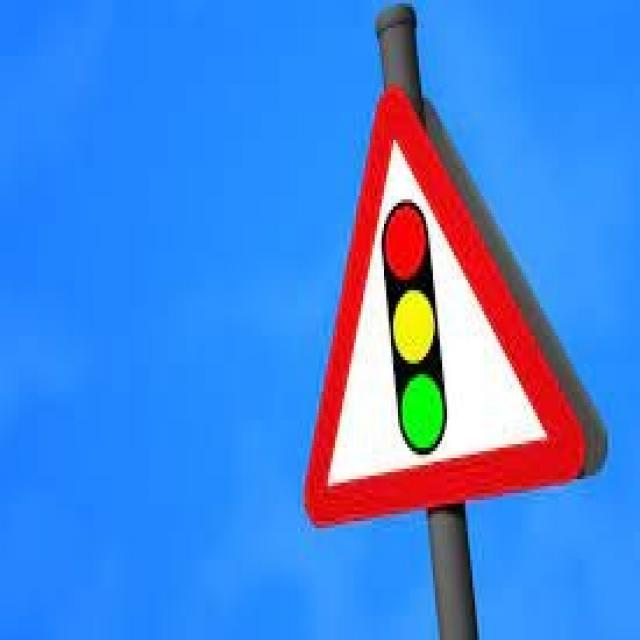light_traffic: (302, 86, 599, 544)
